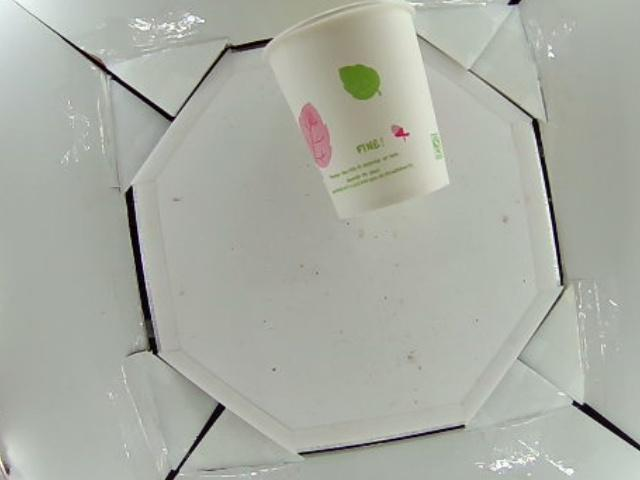Cup: (269, 1, 450, 221)
